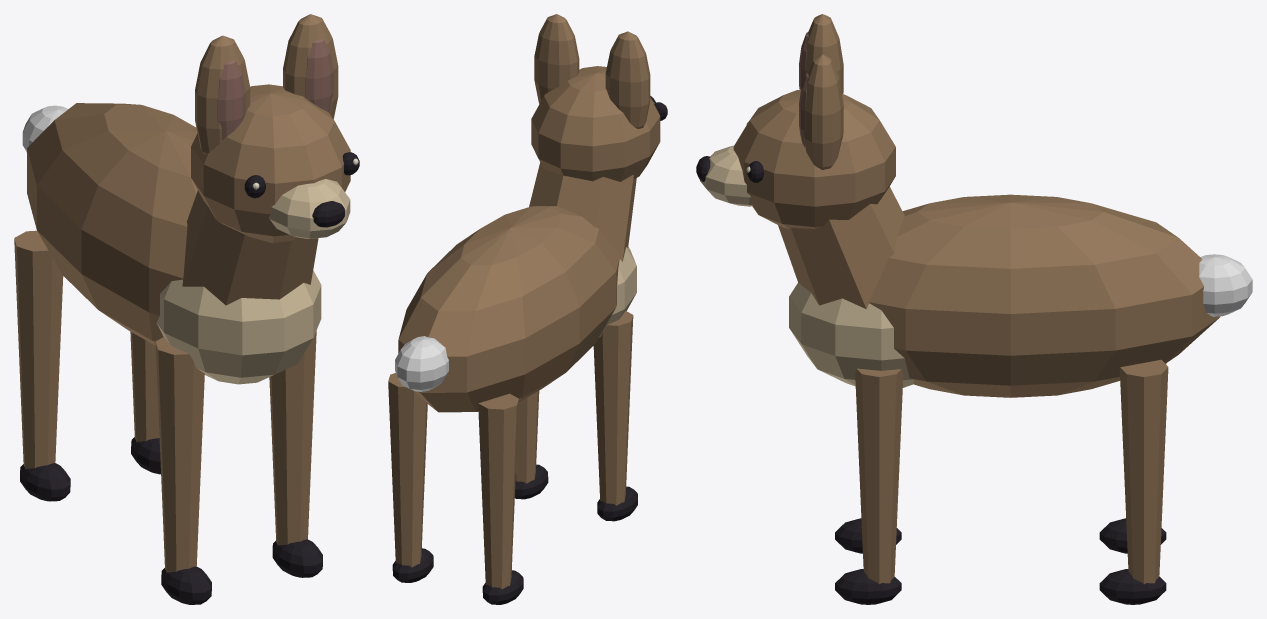
The model's file is water_deer.fbx.
3 renders of one model, left to right at view 1: azimuth 30°, elevation 25°; view 2: azimuth 150°, elevation 25°; view 3: azimuth 270°, elevation 25°, orthographic. The views are drawn at different scales.
Parts seen in each view (by area): view 1: Body, HindLeft, ForeLeft, ForeRight, HindRight, Tail; view 2: Body, HindLeft, ForeLeft, HindRight, ForeRight, Tail; view 3: Body, HindRight, ForeRight, Tail, HindLeft, ForeLeft.
Part boxes in pixels (left/top/right/bottom): Body: left=27, top=14, right=359, bottom=384; HindLeft: left=14, top=230, right=70, bottom=501; ForeLeft: left=155, top=337, right=211, bottom=604; ForeRight: left=269, top=331, right=322, bottom=577; HindRight: left=130, top=331, right=160, bottom=474; Tail: left=22, top=105, right=68, bottom=152; Body: left=398, top=14, right=667, bottom=412; HindLeft: left=478, top=393, right=523, bottom=604; ForeLeft: left=593, top=311, right=637, bottom=521; HindRight: left=388, top=373, right=433, bottom=582; ForeRight: left=514, top=391, right=548, bottom=499; Tail: left=395, top=336, right=448, bottom=391; Body: left=696, top=14, right=1220, bottom=397; HindRight: left=1099, top=359, right=1168, bottom=604; ForeRight: left=835, top=368, right=903, bottom=604; Tail: left=1199, top=254, right=1252, bottom=316; HindLeft: left=1099, top=363, right=1166, bottom=553; ForeLeft: left=835, top=518, right=901, bottom=553.
Bounding box in the file's own units: 46.8 × 153 × 142.
